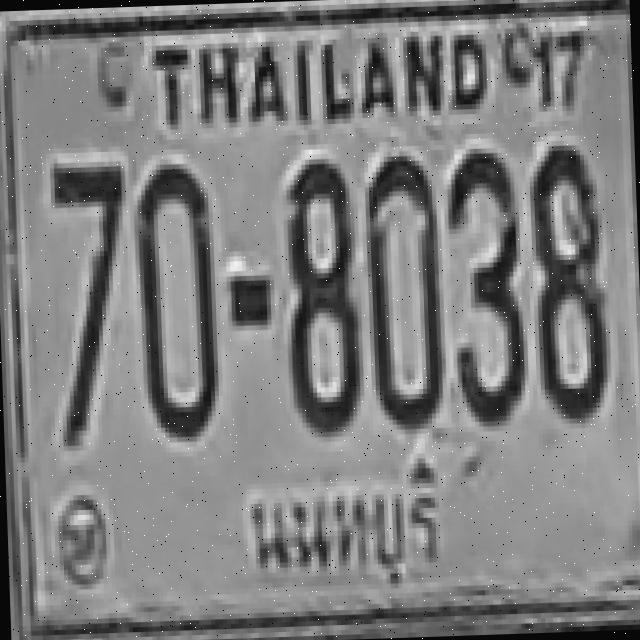0: (134, 158, 218, 432), (362, 150, 442, 424)
3: (442, 147, 522, 422)
7: (49, 161, 130, 431), (49, 160, 128, 387), (50, 160, 126, 332)
8: (281, 155, 361, 430), (528, 142, 604, 417)
Nonthaburi: (232, 449, 478, 622)
